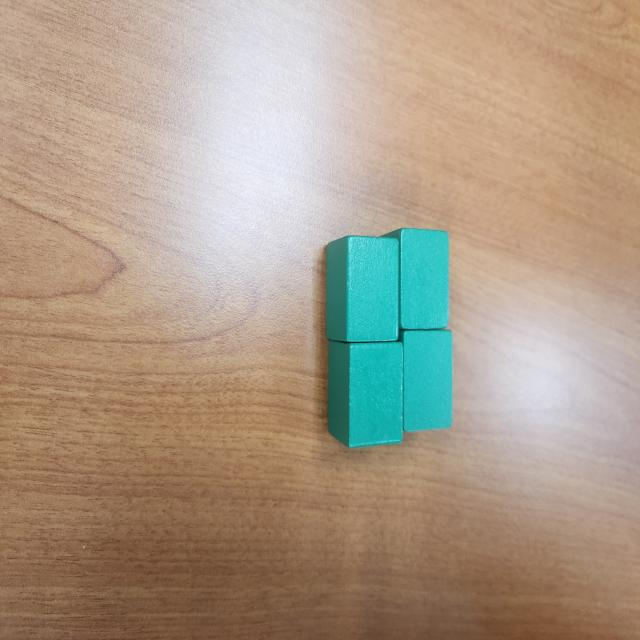green: (326, 340, 404, 453), (326, 232, 400, 344), (377, 226, 450, 331), (398, 329, 454, 431)
